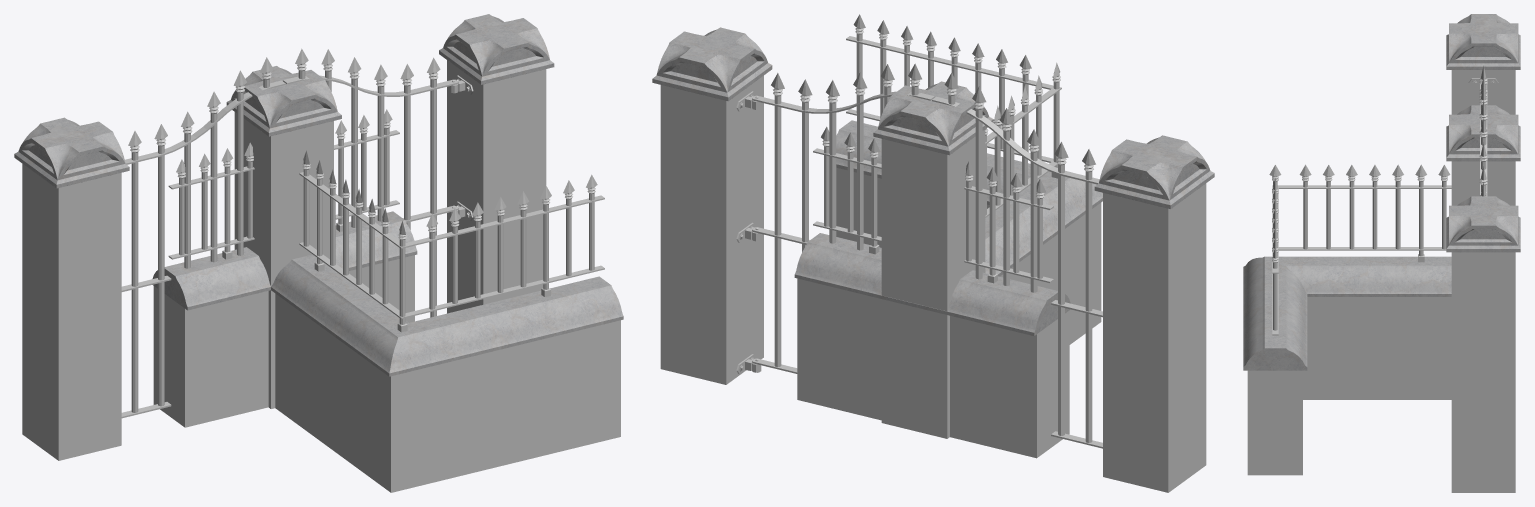
Rendered from BondaryWall.fbx.
The picture shows the model from 3 angles, left to right: view 1: azimuth 30°, elevation 25°; view 2: azimuth 150°, elevation 25°; view 3: azimuth 270°, elevation 25°; orthographic projection. The views are drawn at different scales.
Parts seen in each view (by area): view 1: WallCorner, GatePosts, WallStraight, Post, LeftGate, RightGate; view 2: GatePosts, WallStraight, Post, WallCorner, LeftGate, RightGate; view 3: WallCorner, GatePosts, Post, RightGate.
Part boxes in pixels (x1=…): WallCorner: x1=271, y1=150, x2=623, y2=492; GatePosts: x1=14, y1=14, x2=554, y2=460; WallStraight: x1=152, y1=109, x2=417, y2=427; Post: x1=226, y1=66, x2=341, y2=408; LeftGate: x1=121, y1=57, x2=285, y2=418; RightGate: x1=283, y1=48, x2=458, y2=317; GatePosts: x1=652, y1=27, x2=1214, y2=492; WallStraight: x1=794, y1=126, x2=1070, y2=458; Post: x1=873, y1=81, x2=993, y2=438; WallCorner: x1=836, y1=14, x2=1102, y2=344; LeftGate: x1=932, y1=72, x2=1102, y2=448; RightGate: x1=752, y1=63, x2=934, y2=373; WallCorner: x1=1243, y1=164, x2=1451, y2=475; GatePosts: x1=1446, y1=14, x2=1520, y2=492; Post: x1=1446, y1=105, x2=1520, y2=205; RightGate: x1=1479, y1=101, x2=1487, y2=196.
Bounding box in the file's own units: 340 × 219 × 187.
